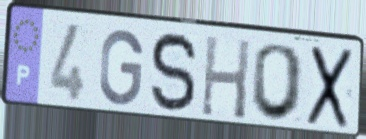4: (48, 20, 90, 107)
G: (97, 27, 146, 109)
H: (198, 32, 253, 123)
O: (248, 42, 307, 124)
S: (148, 30, 200, 116)
X: (304, 43, 356, 132)
